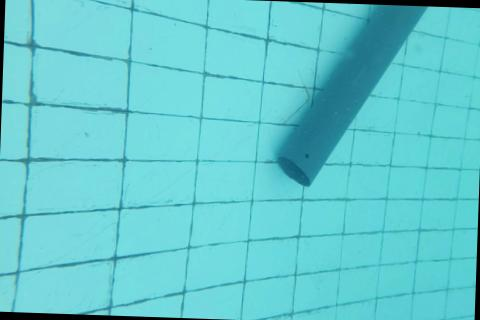kebocoran: (305, 153, 309, 159)
